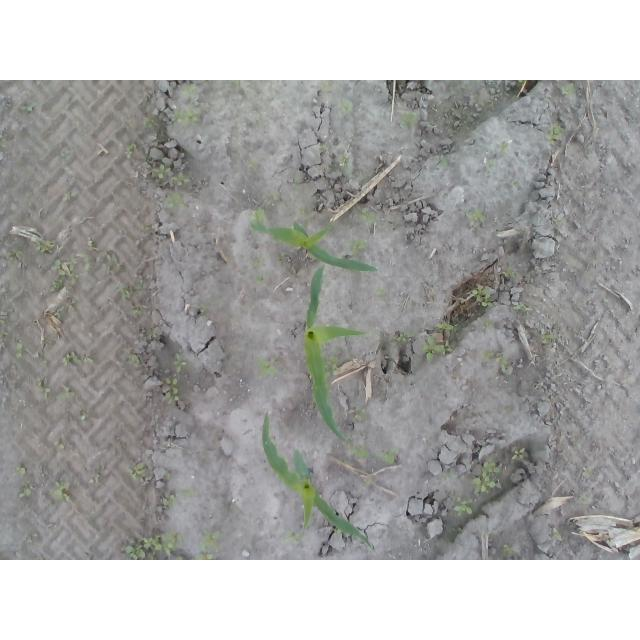Maize: (262, 410, 378, 555), (301, 261, 368, 443), (247, 222, 377, 274)
Weeds: (125, 530, 184, 560), (421, 321, 459, 361), (473, 458, 502, 495), (193, 526, 223, 560), (50, 257, 79, 292), (151, 165, 193, 188), (160, 375, 180, 405), (473, 284, 495, 309), (258, 352, 279, 377), (544, 126, 568, 146), (483, 350, 508, 369), (453, 496, 475, 517), (52, 480, 72, 501), (174, 109, 202, 124), (35, 375, 50, 401), (36, 238, 57, 255), (285, 527, 303, 546), (358, 207, 378, 224), (127, 462, 145, 480), (399, 110, 417, 128), (167, 192, 186, 209), (173, 351, 187, 374), (347, 238, 370, 252), (61, 352, 80, 368), (465, 207, 485, 222), (335, 97, 353, 113), (105, 255, 120, 274), (382, 445, 396, 465), (256, 255, 265, 286), (161, 493, 176, 511), (349, 445, 368, 459), (340, 149, 353, 169), (352, 407, 368, 423), (113, 286, 130, 301), (318, 81, 334, 96), (250, 206, 265, 222), (128, 352, 145, 366), (123, 143, 137, 160), (287, 176, 301, 193), (180, 82, 198, 95), (560, 82, 576, 96), (142, 116, 158, 129), (63, 190, 80, 202), (60, 384, 75, 397), (326, 355, 339, 370), (129, 304, 143, 317), (575, 495, 592, 505), (93, 464, 103, 481), (18, 486, 31, 499), (502, 543, 514, 557), (512, 448, 526, 460), (59, 145, 70, 160), (54, 440, 69, 451), (82, 255, 91, 273), (512, 303, 528, 313), (14, 464, 27, 476), (496, 140, 508, 153), (448, 526, 462, 537), (392, 333, 406, 344), (15, 342, 24, 359), (6, 249, 18, 261), (548, 527, 560, 538), (180, 487, 192, 498), (542, 333, 555, 343), (582, 466, 591, 480), (19, 104, 33, 112), (190, 95, 200, 106), (481, 319, 492, 329), (526, 271, 535, 283), (364, 478, 377, 486), (439, 158, 449, 168), (501, 271, 515, 278), (249, 159, 258, 169), (376, 287, 385, 297), (552, 216, 562, 225), (447, 472, 458, 480), (317, 142, 328, 150), (0, 328, 8, 338), (490, 159, 497, 169), (297, 208, 304, 217), (0, 134, 4, 145), (517, 80, 524, 84)
